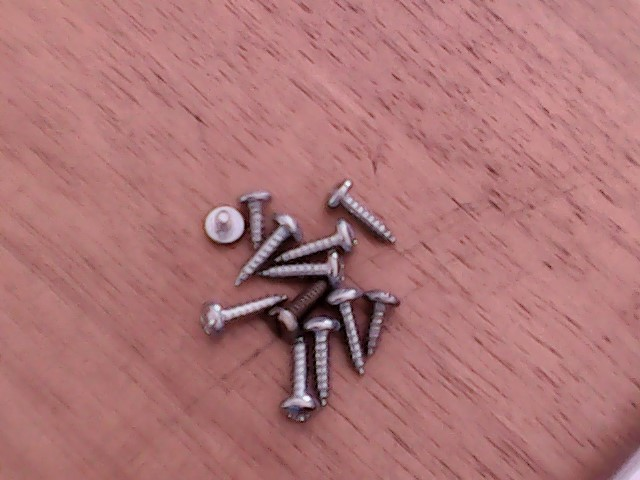Metal: (187, 170, 416, 432)
